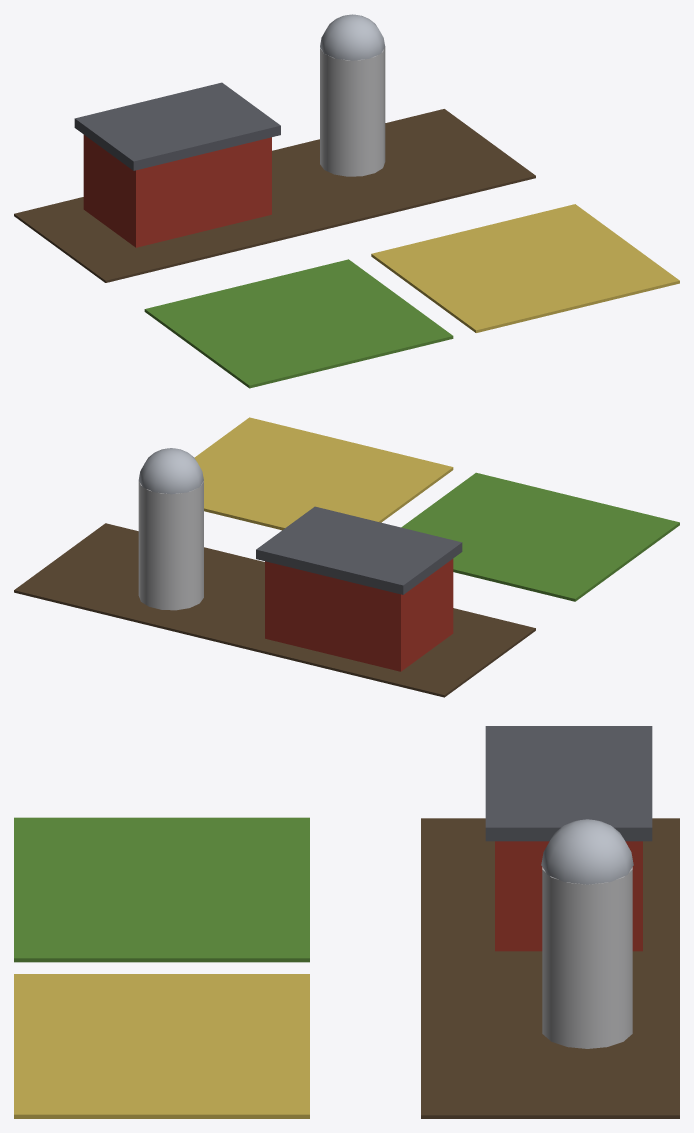
File: farm.glb
3 renders of one model, top to bottom at view 1: azimuth 30°, elevation 25°; view 2: azimuth 150°, elevation 25°; view 3: azimuth 270°, elevation 25°, orthographic. The views are drawn at different scales.
Visible parts, largest first — view 1: Yard, FieldA, FieldB, Barn, BarnRoof, Silo, SiloTop; view 2: Yard, FieldA, FieldB, Barn, BarnRoof, Silo, SiloTop; view 3: Yard, FieldA, FieldB, BarnRoof, Silo, Barn, SiloTop.
Part boxes in pixels (<box>): Yard: <box>14,109,535,282</box>; FieldA: <box>144,259,453,388</box>; FieldB: <box>371,204,679,332</box>; Barn: <box>83,135,271,247</box>; BarnRoof: <box>74,82,280,170</box>; Silo: <box>320,47,385,176</box>; SiloTop: <box>320,14,385,60</box>; Yard: <box>14,523,535,697</box>; FieldA: <box>401,472,679,601</box>; FieldB: <box>194,417,453,530</box>; Barn: <box>265,559,453,671</box>; BarnRoof: <box>256,506,462,594</box>; Silo: <box>138,481,203,610</box>; SiloTop: <box>138,448,203,494</box>; Yard: <box>421,818,679,1118</box>; FieldA: <box>14,817,309,962</box>; FieldB: <box>14,974,309,1118</box>; BarnRoof: <box>485,726,652,841</box>; Silo: <box>542,867,632,1048</box>; Barn: <box>495,841,642,951</box>; SiloTop: <box>541,819,633,884</box>.
Bounding box in the file's own units: 3.8 × 1.25 × 3.6.
